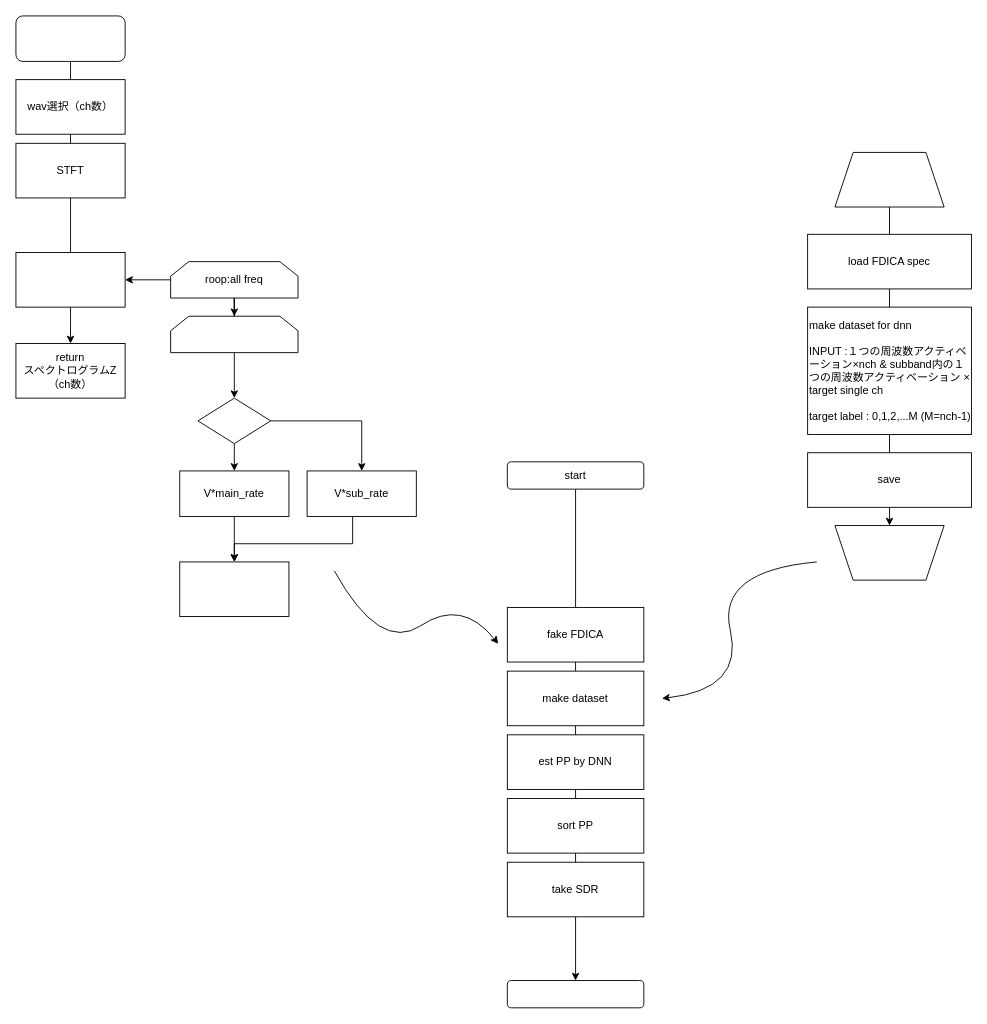
This 987x1024 diagram has some shape labels left out. Here are the shapes that lost their labels. From the top down, the centre of each, then its label:
(70,38): fake_fdica.py
(889,179): roop:many
(70,279): 疑似FDICA
(234,334): roop:all ch
(234,420): m=aim_ch
(234,589): add
(575,994): end
